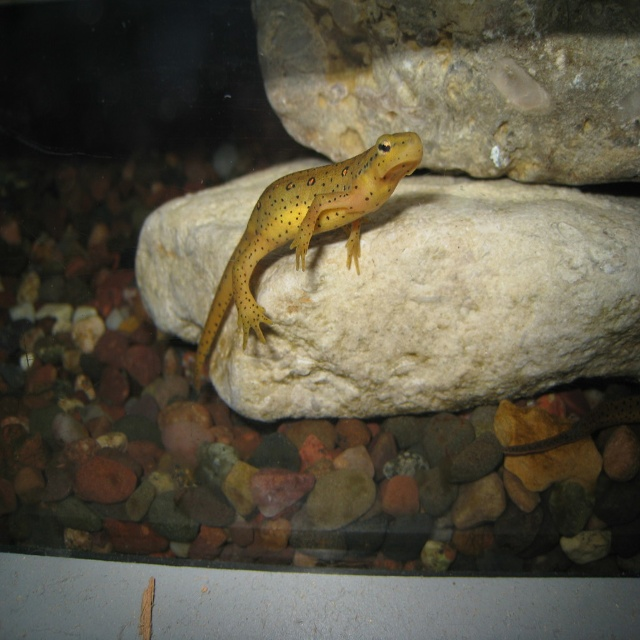Lizard: (203, 118, 428, 373)
